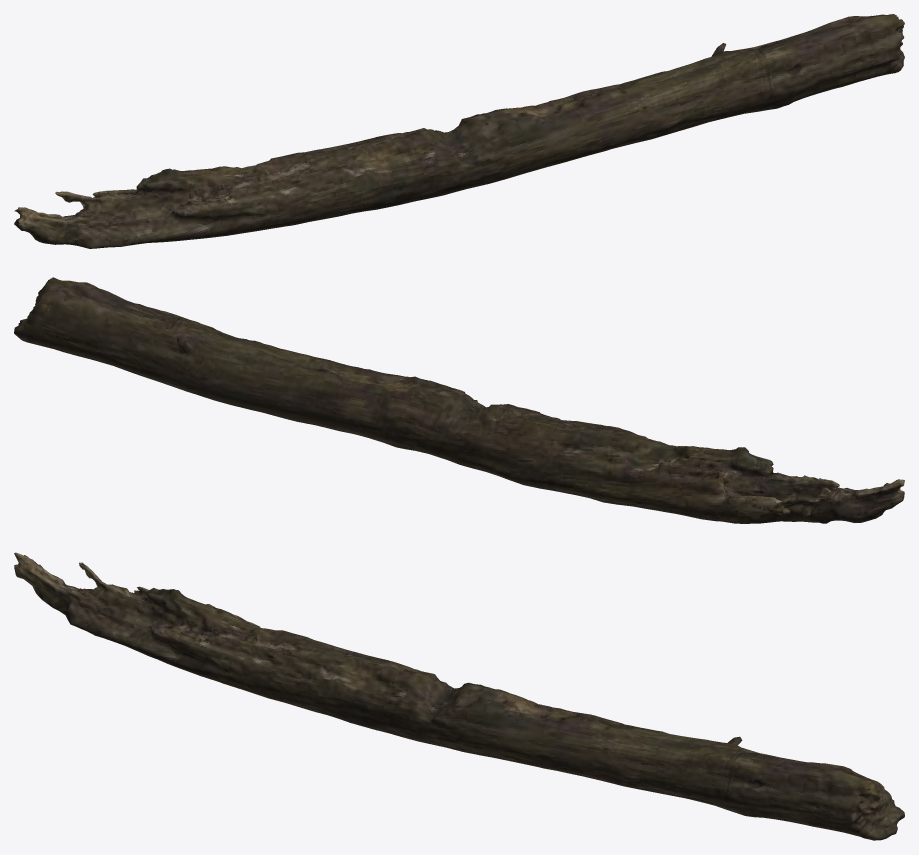
The model's file is grounded-deadwood-quiet.glb.
3 renders of one model, top to bottom at view 1: azimuth 30°, elevation 25°; view 2: azimuth 150°, elevation 25°; view 3: azimuth 330°, elevation 25°, orthographic.
Visible parts, largest first — view 1: grounded-deadwood-quiet runtime mesh; view 2: grounded-deadwood-quiet runtime mesh; view 3: grounded-deadwood-quiet runtime mesh.
Part boxes in pixels (x1,y1,x2,y2): grounded-deadwood-quiet runtime mesh: (14, 14, 904, 248); grounded-deadwood-quiet runtime mesh: (14, 277, 904, 523); grounded-deadwood-quiet runtime mesh: (14, 552, 904, 840).
Bounding box in the file's own units: 2.1 × 0.1991 × 0.1904.
1 material, 1 textured.
